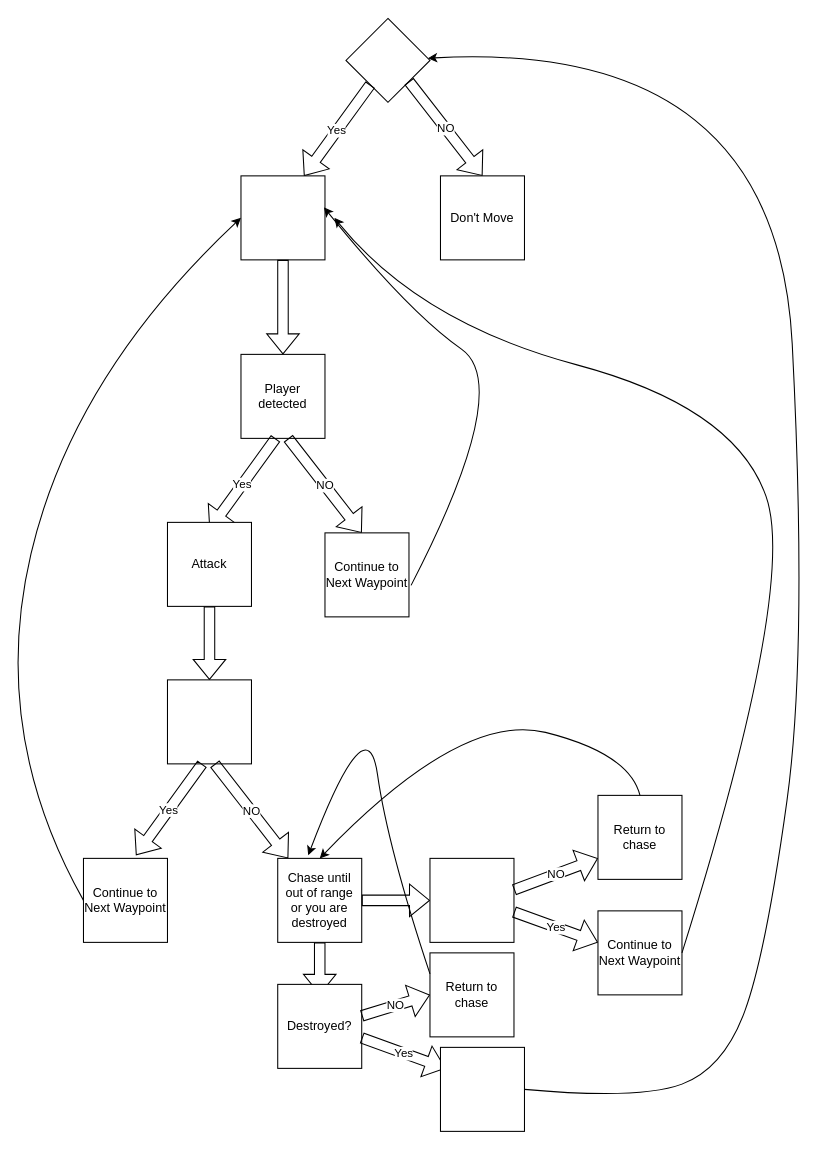
The diagram is 818 pixels wide and 1150 high, and some of its shapes have lost their labels. Here are the shapes that lost their labels. From the top down, the box of each, then its label:
(345, 17, 430, 102): Patrol Enabled?
(240, 175, 325, 260): Move to Next Waypoint
(166, 679, 251, 764): Player Destroyed?
(429, 857, 514, 942): Player Out of Range
(439, 1046, 524, 1131): Respawn within time limit and back to start.
